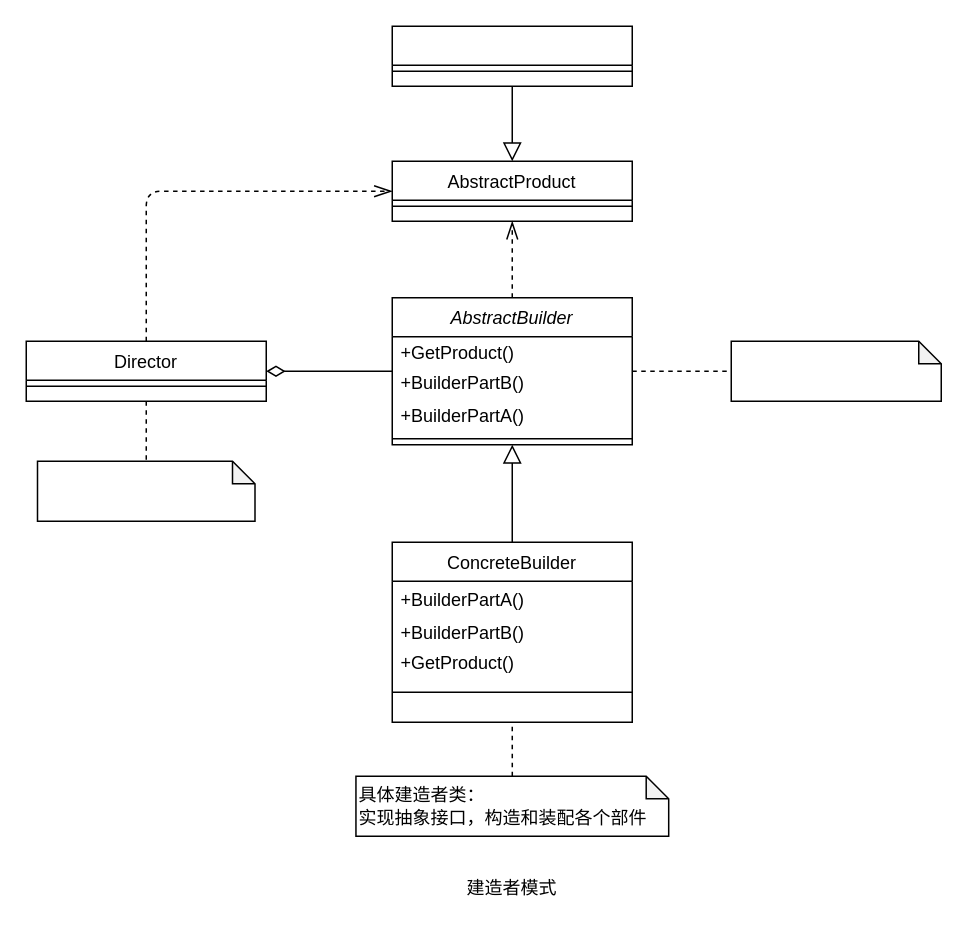
Image size: 968x938. Some labels were removed from this diagram. The shapes that lost their labels are listed below. From the top down, each one's centre as x and y in pixels, then its label:
the point at 511,55: Product
the point at 835,370: 建造者类： 创建各个部件抽象接口
the point at 145,490: 指挥类： 构建使用Builder接口对象
